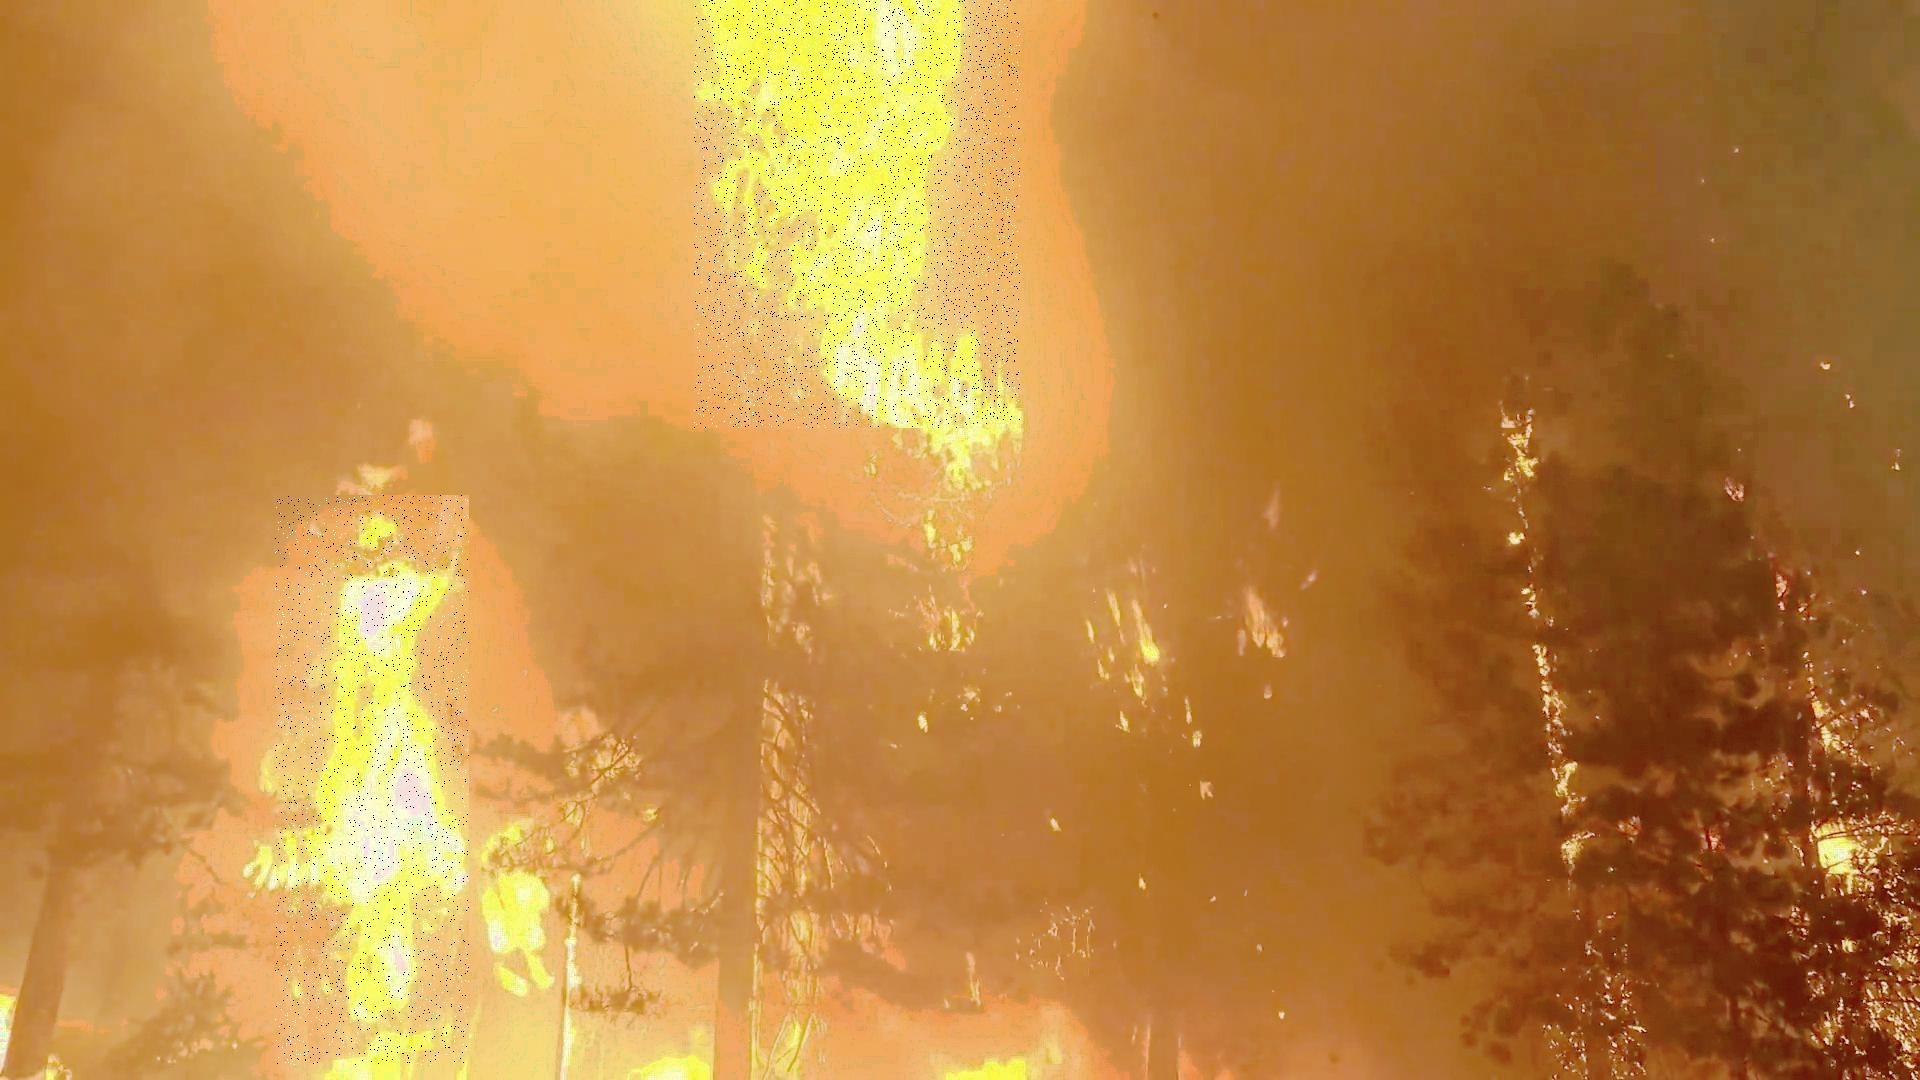fire: (695, 0, 1021, 429), (276, 496, 469, 1065)
